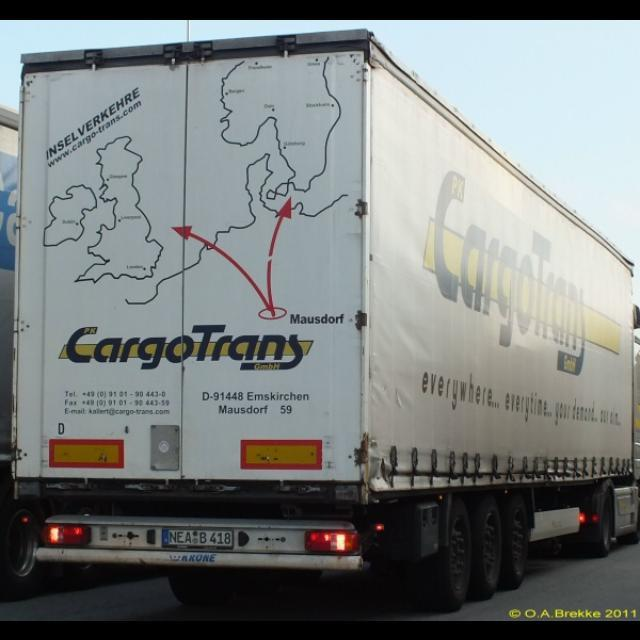license-plates: (162, 530, 232, 550)
